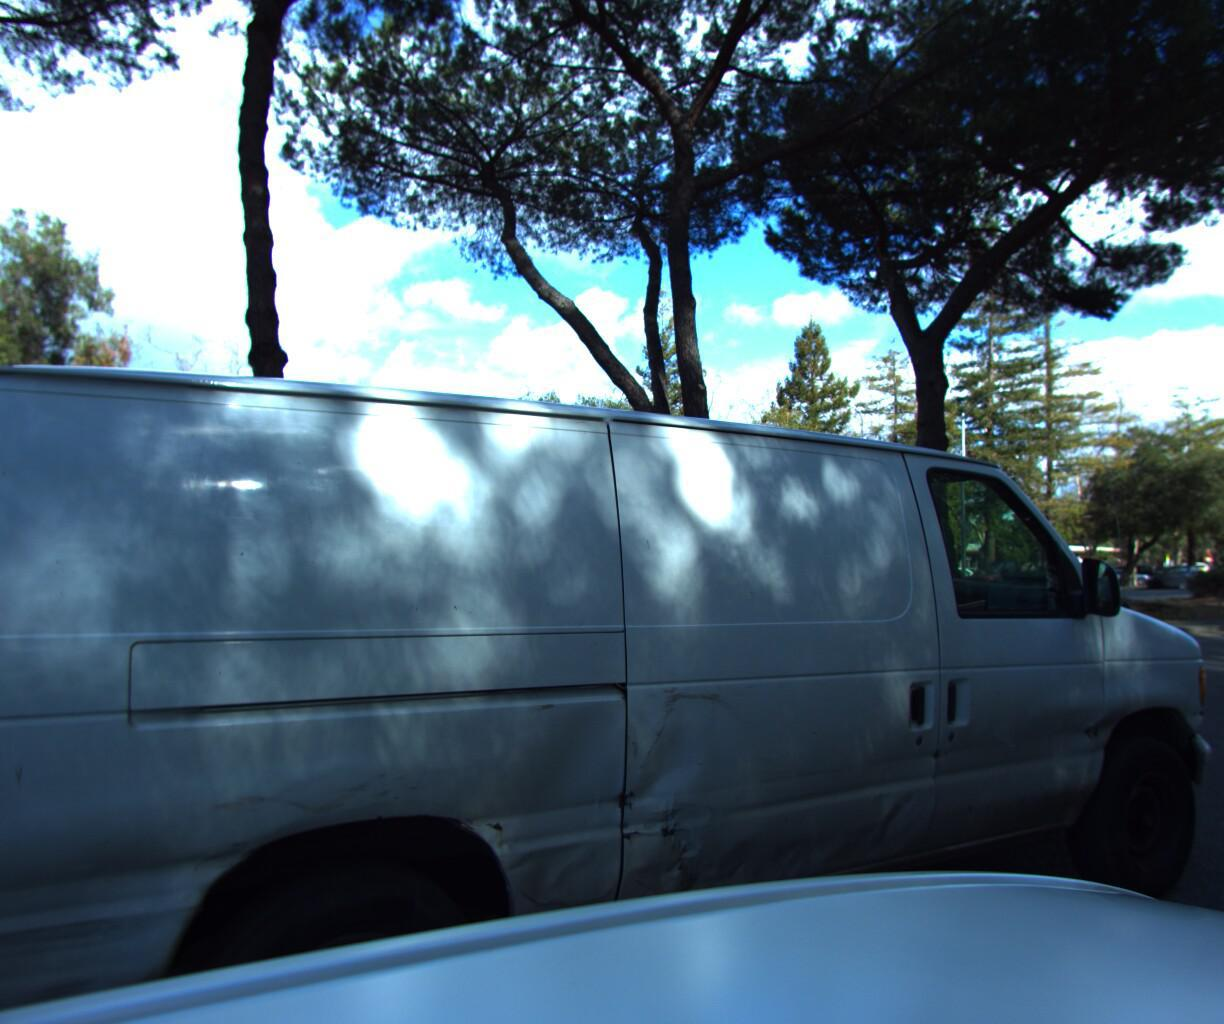car: (0, 195, 1224, 1024), (945, 561, 1050, 600), (1139, 565, 1211, 595)
